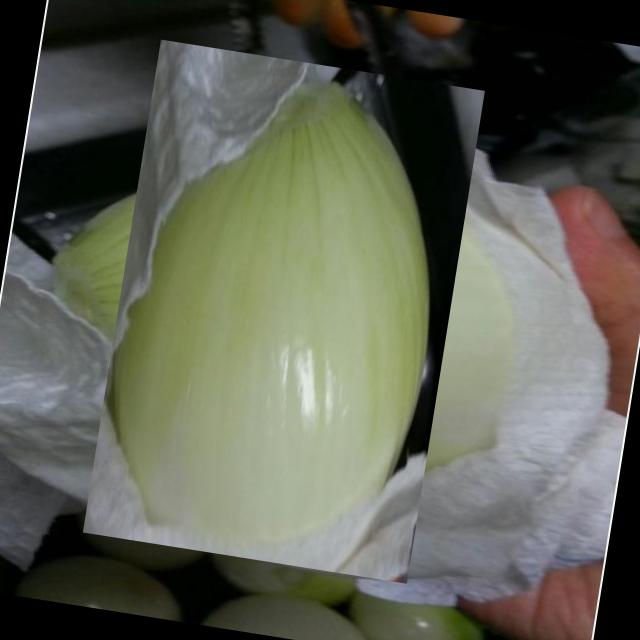Onion: (47, 74, 520, 548)
